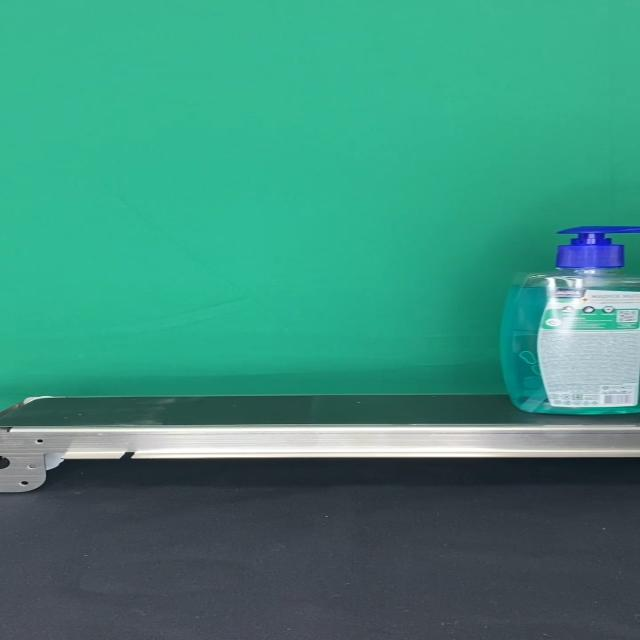Bottle: (500, 226, 640, 415)
Cap: (554, 225, 640, 267)
